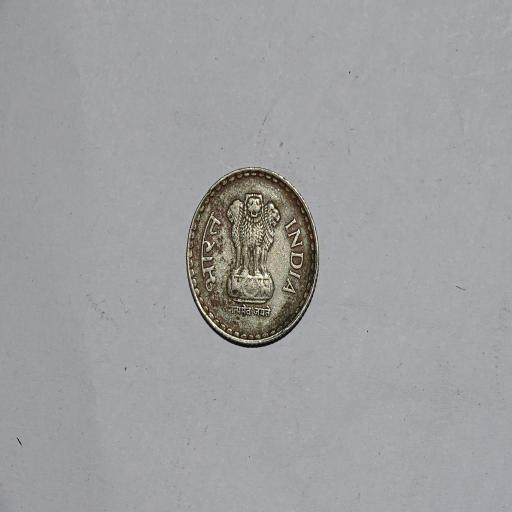rupee5: (181, 167, 322, 351)
